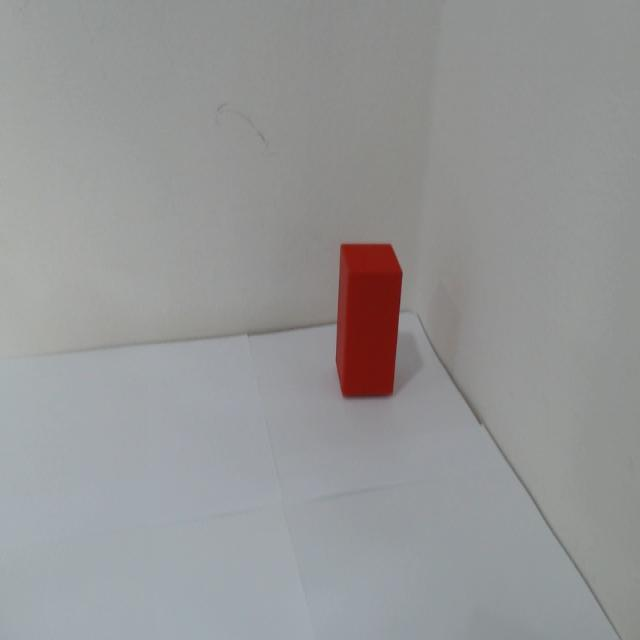cube: (325, 232, 417, 404)
